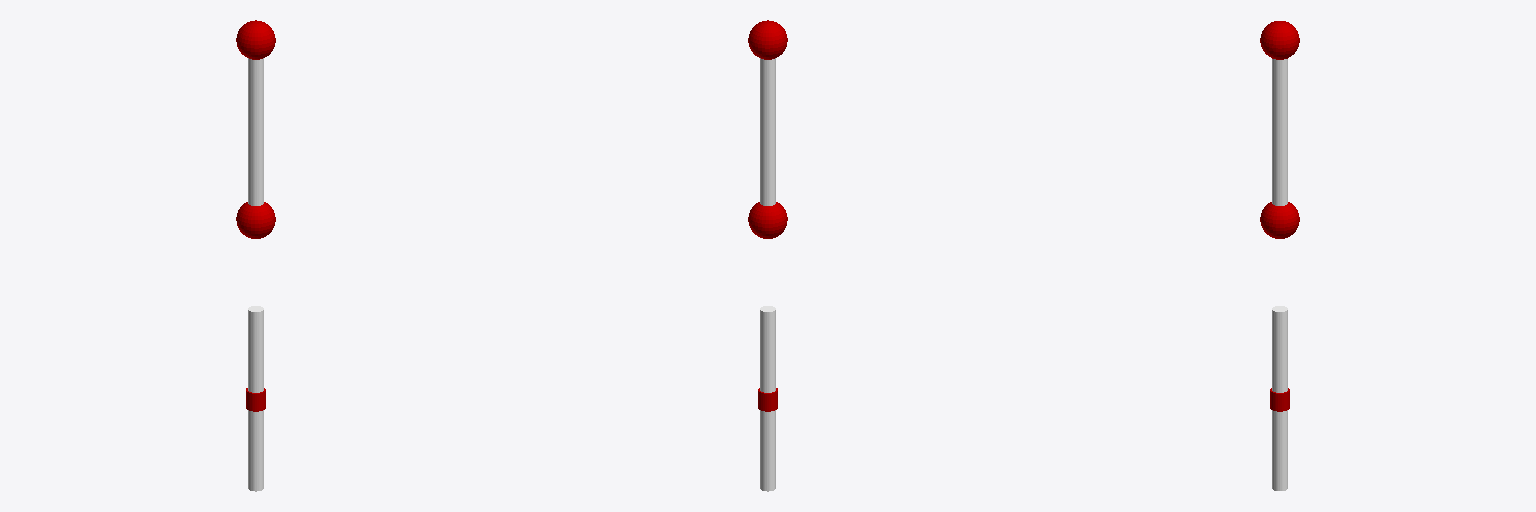
URDF robot description (physics):
<?xml version="1.0"?>
<robot name="physics">

    <link name="world">
    <visual>
      <origin rpy="0 1.57079632679 0" xyz="0 0 0"/>
      <geometry>
        <cylinder radius="0.05" length="0.1"/>
      </geometry>
      <origin xyz="0 0 0"/>
      <material name="red">
        <color rgba=".8 0 0 1"/>
      </material>
    </visual>
    <inertial>
      <mass value="0"/>
      <inertia ixx="1.0" ixy="0.0" ixz="0.0" iyy="1.0" iyz="0.0" izz="1.0"/>
    </inertial>
  </link>

  <link name="pole1">
    <visual>
      <origin rpy="0 0 0" xyz="0 0 0.5"/>
      <geometry>
        <cylinder  radius="0.04" length="1"/>	
      </geometry>
      <origin rpy="0 0 0" xyz="0 0 0"/>
      <material name="white">
        <color rgba="1 1 1 1"/>
      </material>
    </visual>
    <inertial>
    <origin xyz="0 0 1"/>
      <mass value="1"/>
      <inertia ixx="0" ixy="0.0" ixz="0.0" iyy="0.0" iyz="0.0" izz="0.0"/>
    </inertial>
     <collision>
      <geometry>
        <box size="0.05 0.05 1.0"/>	
      </geometry>
      <origin rpy="0 0 0" xyz="0 0 0.5"/>
    </collision>
  </link>

  <joint name="pole1" type="revolute">
    <axis xyz="1 0 0"/>
    <origin xyz="0.0 0.0 0"/>
    <parent link="world"/>
    <child link="pole1"/>
    <limit effort="1000.0" velocity="5"/>
  </joint>

  <link name="pole2">
    <visual>
      <origin rpy="0 0 0" xyz="0 0 0.5"/>
      <geometry>
        <cylinder  radius="0.04" length="1"/>	
      </geometry>
      <material name="white">
        <color rgba="1 1 1 1"/>
      </material>
    </visual>
    <visual>
      <origin rpy="0 0 0" xyz="0 0 0"/>
      <geometry>
        <sphere radius="0.1"/>
      </geometry>
      <material name="red">
        <color rgba=".8 0 0 1"/>
      </material>
    </visual>
    <inertial>
    <origin xyz="0 0 1"/>
      <mass value="1"/>
      <inertia ixx="0" ixy="0.0" ixz="0.0" iyy="0.0" iyz="0.0" izz="0.0"/>
    </inertial>
     <collision>
      <geometry>
        <box size="0.05 0.05 1.0"/>	
      </geometry>
      <origin rpy="0 0 0" xyz="0 0 0.5"/>
    </collision>
  </link>

  <joint name="pole2" type="revolute">
    <axis xyz="1 0 0"/>
    <origin xyz="0.0 0.0 1.0"/>
    <parent link="pole1"/>
    <child link="pole2"/>
    <limit effort="1000.0" velocity="5"/>
  </joint>

  <link name="pole_tip">
    <visual>
      <origin rpy="0 0 0" xyz="0 0 0"/>
      <geometry>
        <sphere radius="0.1"/>
      </geometry>
      <origin xyz="0 0 0"/>
      <material name="red">
        <color rgba=".8 0 0 1"/>
      </material>
    </visual>
  </link>

  <joint name="tip_joint" type="fixed">
    <origin xyz="0 0 1"/>
    <parent link="pole2"/>
    <child link="pole_tip"/>
  </joint>
  
</robot>

--- Facts derived from the render (not from the file) ---
3 views of the same robot in one strip: view 1: azimuth 30°, elevation 25°; view 2: azimuth 150°, elevation 25°; view 3: azimuth 270°, elevation 25° (orthographic).
Model physics with 4 links and 3 joints (2 revolute, 1 fixed), rooted at world, posed all joints at 0.
Links seen in each view (by area): view 1: pole2, pole1, pole_tip; view 2: pole2, pole1, pole_tip; view 3: pole2, pole1, pole_tip.
Link boxes in pixels (x1=…): pole2: x1=236, y1=58, x2=275, y2=238; pole1: x1=248, y1=306, x2=263, y2=491; pole_tip: x1=236, y1=20, x2=275, y2=59; pole2: x1=748, y1=58, x2=787, y2=238; pole1: x1=760, y1=306, x2=775, y2=491; pole_tip: x1=748, y1=20, x2=787, y2=59; pole2: x1=1260, y1=59, x2=1299, y2=238; pole1: x1=1272, y1=306, x2=1287, y2=490; pole_tip: x1=1260, y1=21, x2=1299, y2=59.
Size in the robot's own frame: 0.2 by 0.2 by 2.6 metres.
Geometry: primitives only (box / cylinder / sphere), no mesh files.
